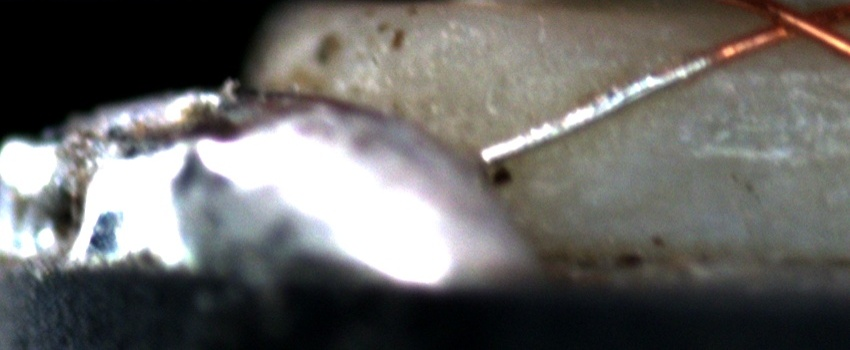CL: (748, 1, 834, 47)
DL: (633, 128, 850, 177), (677, 60, 850, 94)
TS: (480, 54, 717, 166)
